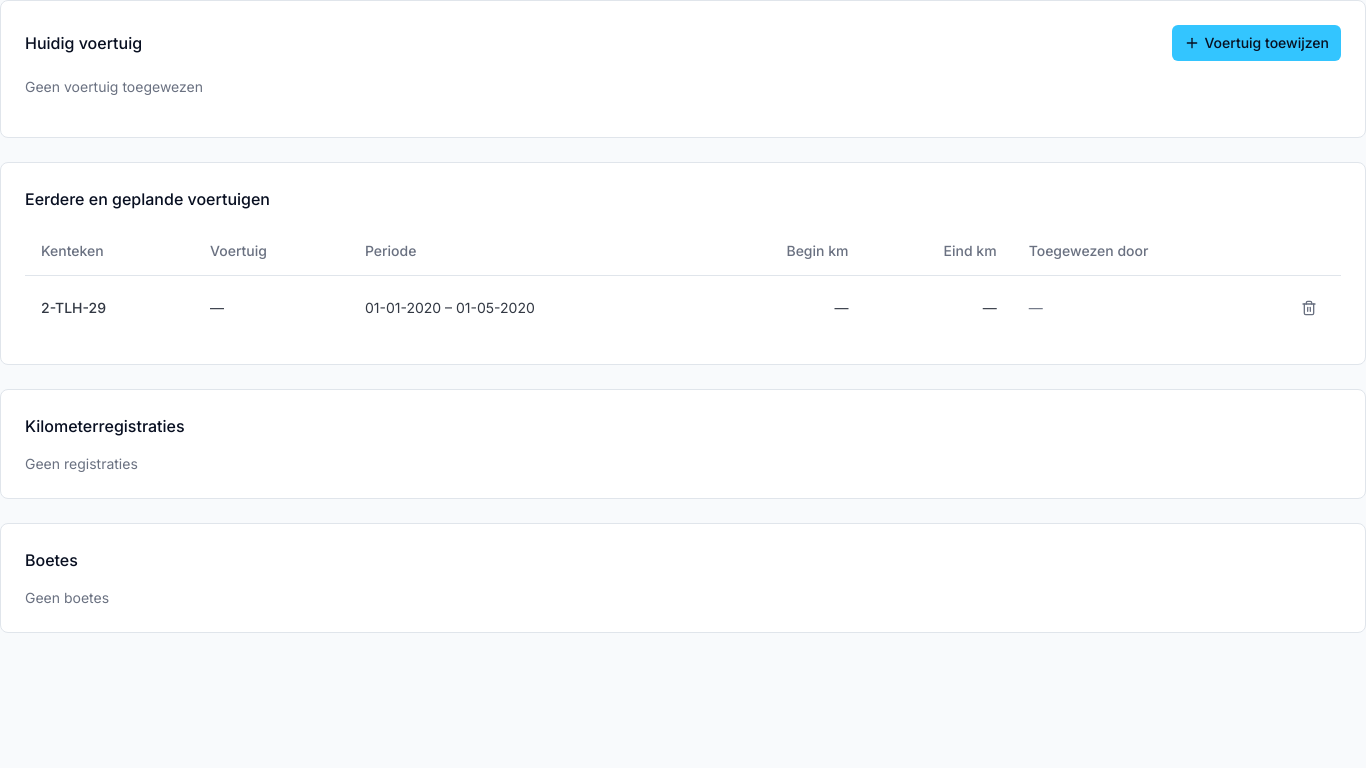
Test: verwijderen vanuit medewerkersdossier › vraagt bevestiging en verwijdert de geselecteerde historische toewijzing
Later steps or results of the test are not shown.
Click the button named "Toewijzing verwijderen": (1309, 308) x1=1293 y1=292 x2=1325 y2=324
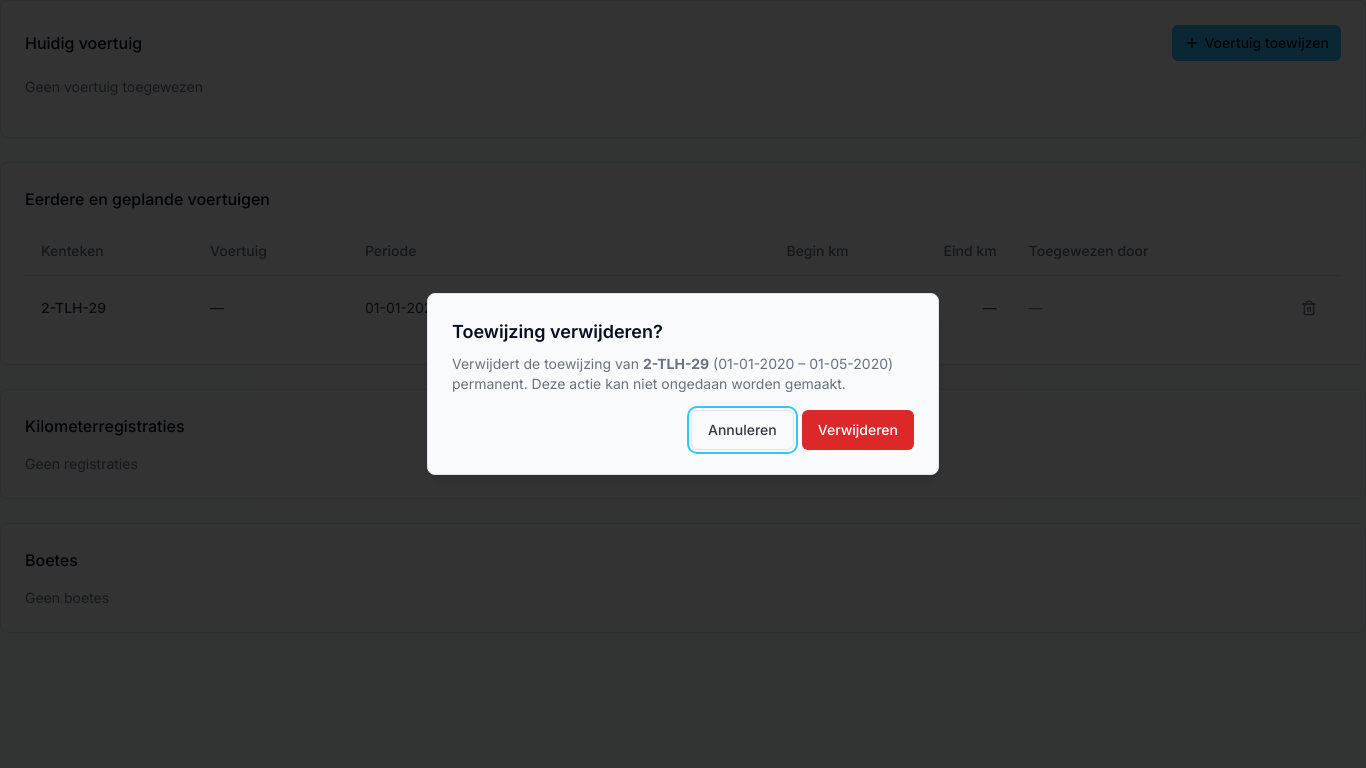
Check: the text "permanent" is shown, box x1=452 y1=355 x2=893 y2=392
